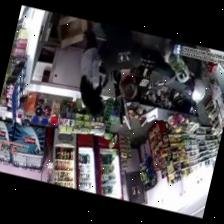person: (101, 23, 141, 98), (80, 21, 104, 114)
